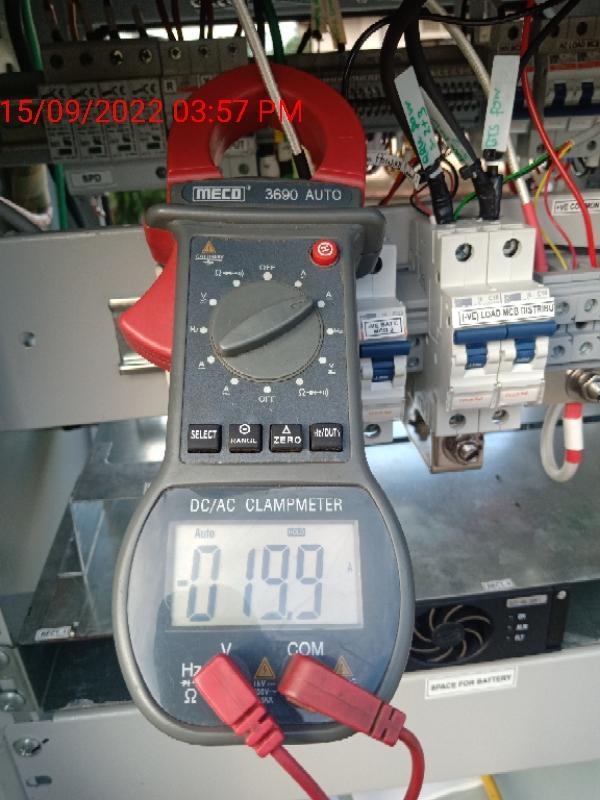ClampMeter_Display: (160, 518, 370, 632)
